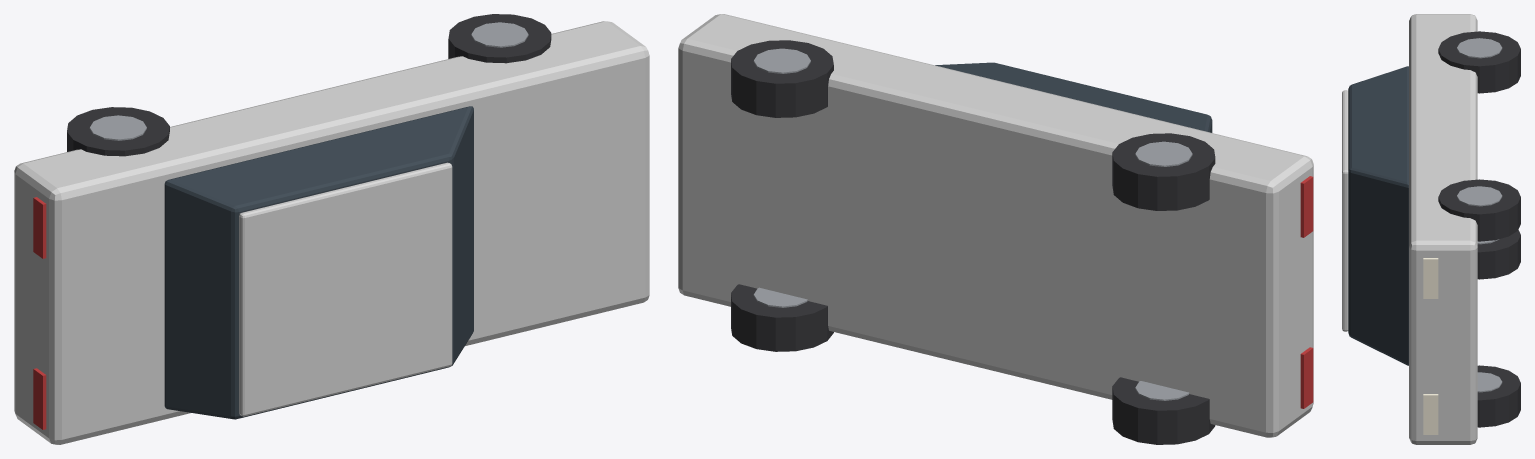
The model's file is carro.glb.
3 views of the same model, side by side, from view 1: azimuth 30°, elevation 25°; view 2: azimuth 150°, elevation 25°; view 3: azimuth 270°, elevation 25° (orthographic). The views are drawn at different scales.
Visible parts, largest first — view 1: carro; view 2: carro; view 3: carro.
Part boxes in pixels (left/top/right/bottom): carro: left=14, top=14, right=649, bottom=444; carro: left=678, top=14, right=1313, bottom=444; carro: left=1342, top=14, right=1520, bottom=444.
Size of the model in its own units: 4.45 by 1.9 by 1.43.
